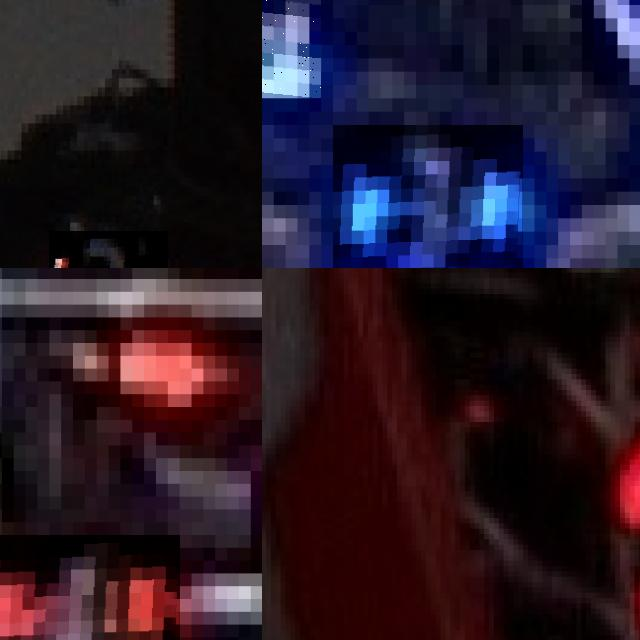B3: (333, 125, 522, 268), (262, 0, 321, 98)
R2: (49, 231, 167, 268)
R4: (0, 535, 179, 640)
